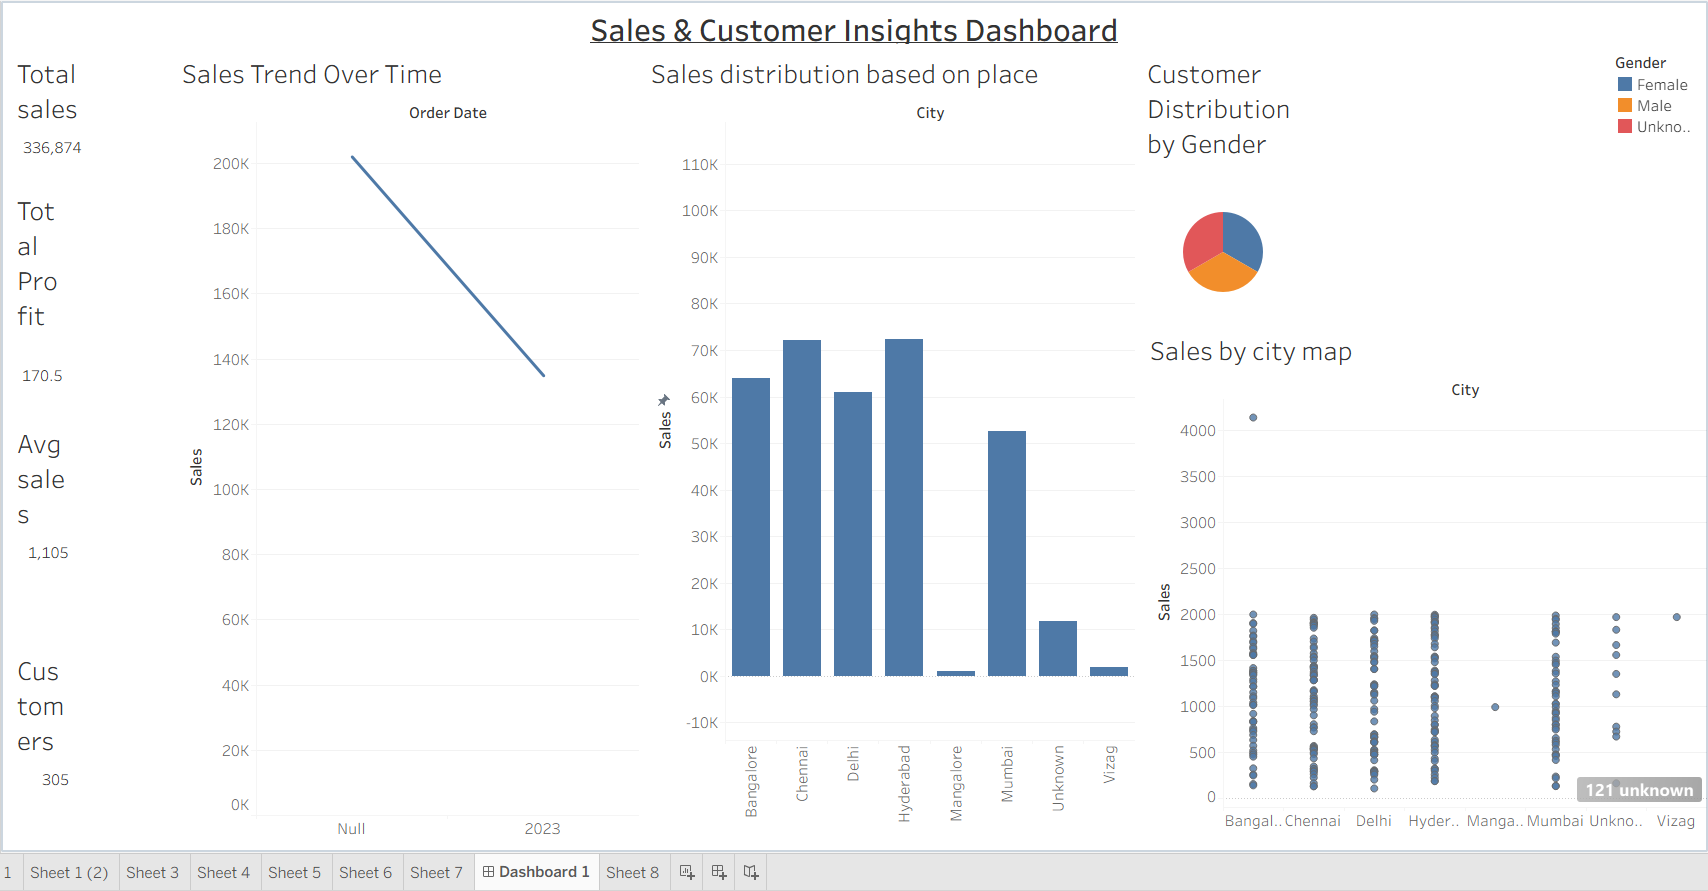

The dashboard page shown, as its layout file describes it:
{"tool":"tableau","page":{"name":"Dashboard 1","canvas":[1000,1000],"units":"permille","ordinal":0},"visuals":[{"type":"title","box":[4.7,9.4,990.6,45.8]},{"type":"worksheet","title":"Sheet 1","mark":"Automatic","box":[4.7,55.2,96.7,160.9]},{"type":"worksheet","title":"Sheet 7","mark":"Line","rows":["sales"],"cols":["order_date"],"box":[101.4,55.2,274.8,935.4]},{"type":"worksheet","title":"Sheet 5","mark":"Automatic","rows":["sales"],"cols":["city"],"box":[376.1,55.2,290.6,935.4]},{"type":"worksheet","title":"Sheet 6","mark":"Pie","box":[666.7,55.2,276.5,935.4]},{"type":"legend","title":"Sheet 6","param":"[federated.1vg9nq810hsuxk12v2e851he9g3k].[none:gender:nk]","box":[943.2,55.2,52.1,109.3]},{"type":"worksheet","title":"Sheet 1 (2)","mark":"Automatic","box":[4.7,216.2,96.7,274.1]},{"type":"worksheet","title":"Sheet 8","mark":"Multipolygon","rows":["sales"],"cols":["city"],"box":[670.8,385.4,328.7,591.1]},{"type":"worksheet","title":"Sheet 3","mark":"Automatic","box":[4.7,490.2,96.7,266.4]},{"type":"worksheet","title":"Sheet 4","mark":"Automatic","box":[4.7,756.7,96.7,233.9]}]}

Visuals, with their boxes on the dashboard's canvas, which has no fixed pixel size, in thousandths of its width and height (x1, y1, x2, y2). These are canvas units, not pixel positions in the 1708x891 screenshot, which may show the page scaled, cropped or inside an application window:
title: bbox=(5, 9, 995, 55)
"Sheet 1" worksheet: bbox=(5, 55, 101, 216)
"Sheet 7" worksheet (Line marks): bbox=(101, 55, 376, 991)
"Sheet 5" worksheet: bbox=(376, 55, 667, 991)
"Sheet 6" worksheet (Pie marks): bbox=(667, 55, 943, 991)
"Sheet 6" legend: bbox=(943, 55, 995, 164)
"Sheet 1 (2)" worksheet: bbox=(5, 216, 101, 490)
"Sheet 8" worksheet (Multipolygon marks): bbox=(671, 385, 1000, 976)
"Sheet 3" worksheet: bbox=(5, 490, 101, 757)
"Sheet 4" worksheet: bbox=(5, 757, 101, 991)
